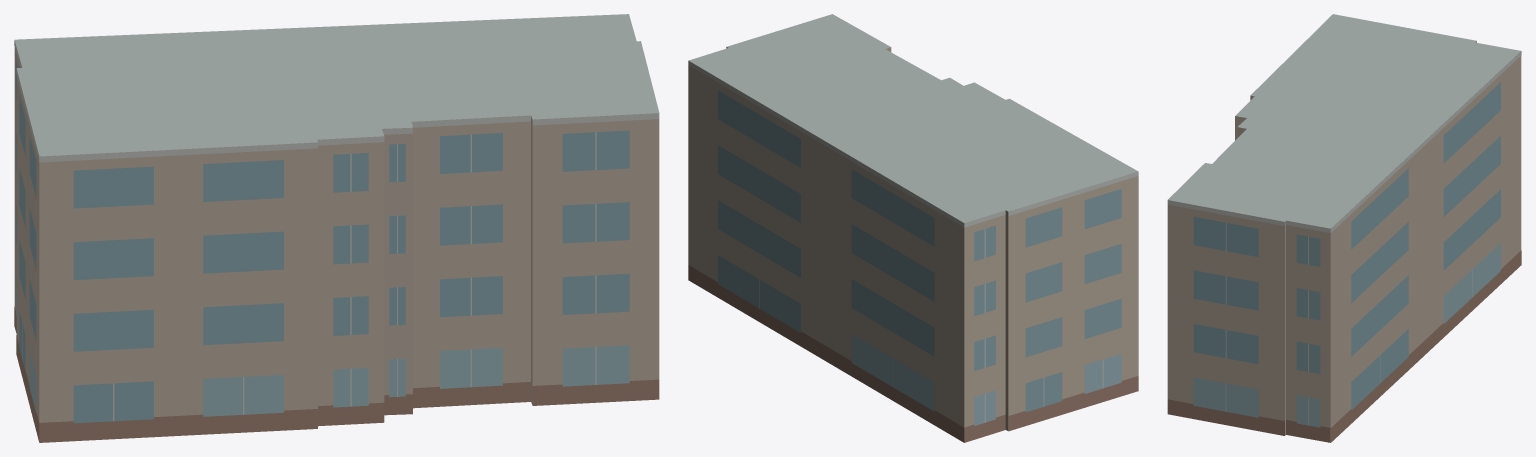
Rendered from survey-upis-32669770.glb.
3 views of the same model, side by side, from view 1: azimuth 30°, elevation 25°; view 2: azimuth 150°, elevation 25°; view 3: azimuth 270°, elevation 25° (orthographic). The views are drawn at different scales.
Visible parts, largest first — view 1: survey-upis-32669770.tmp; view 2: survey-upis-32669770.tmp; view 3: survey-upis-32669770.tmp.
Part boxes in pixels (<box>): survey-upis-32669770.tmp: <box>14,14,659,442</box>; survey-upis-32669770.tmp: <box>688,14,1138,442</box>; survey-upis-32669770.tmp: <box>1167,14,1521,442</box>.
Size of the model in its own units: 25.23 by 11.73 by 17.58.
